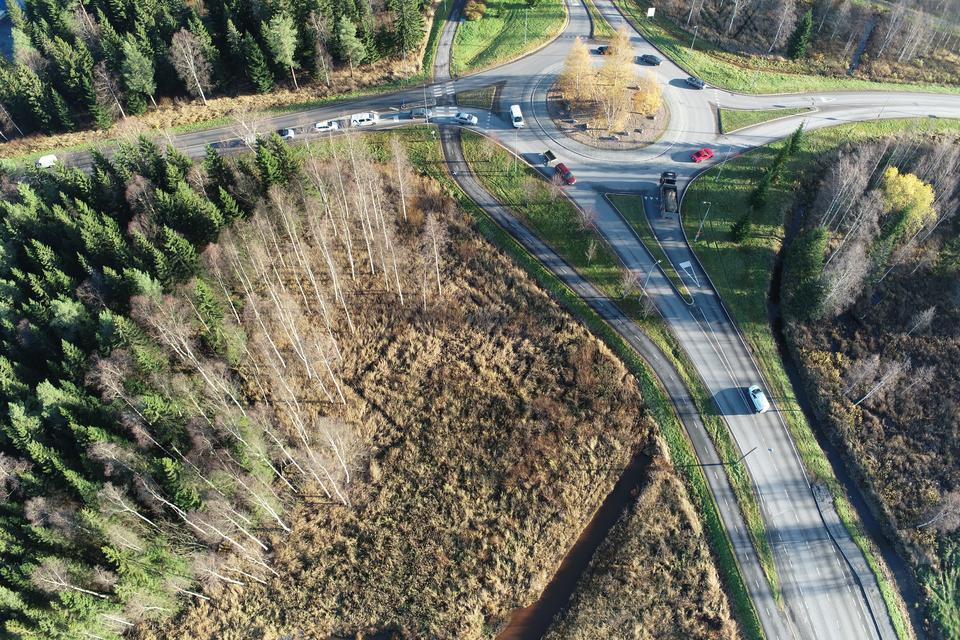intersection: (421, 59, 476, 158)
roundabout: (488, 6, 798, 250)
